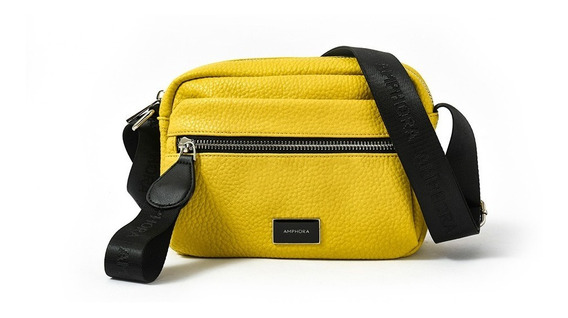cartera: (121, 44, 486, 263)
